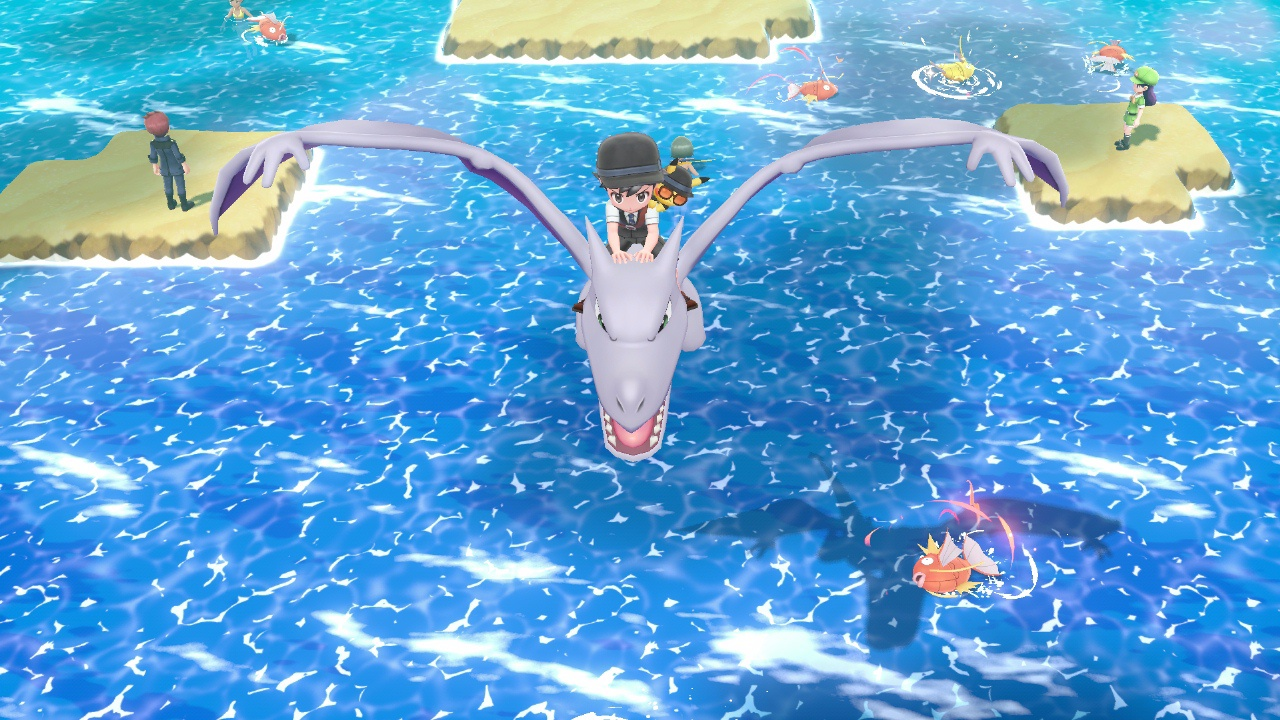Golden: (936, 61, 976, 82)
